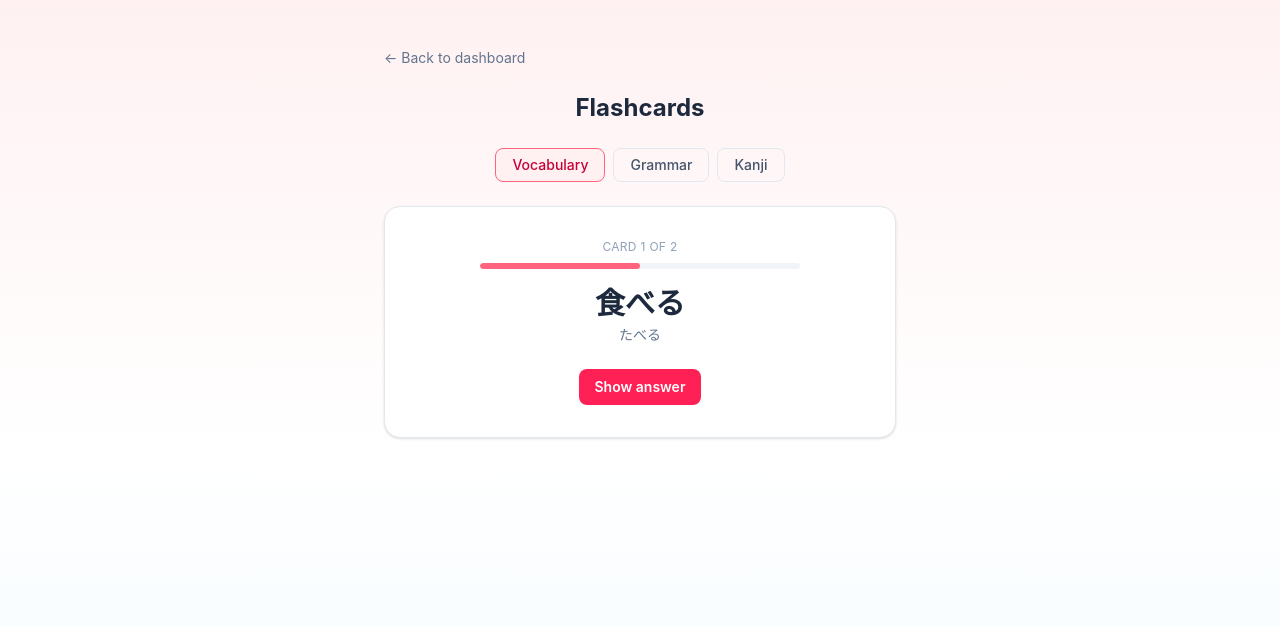
Test: FlashcardsPage › switches to the kanji deck and reveals readings/meaning
This screenshot has width=1280, height=626.
Expected: the text "食べる" is shown, [595,285,685,321]
Click the button "kanji" at (751, 165), box [718,148,785,182]
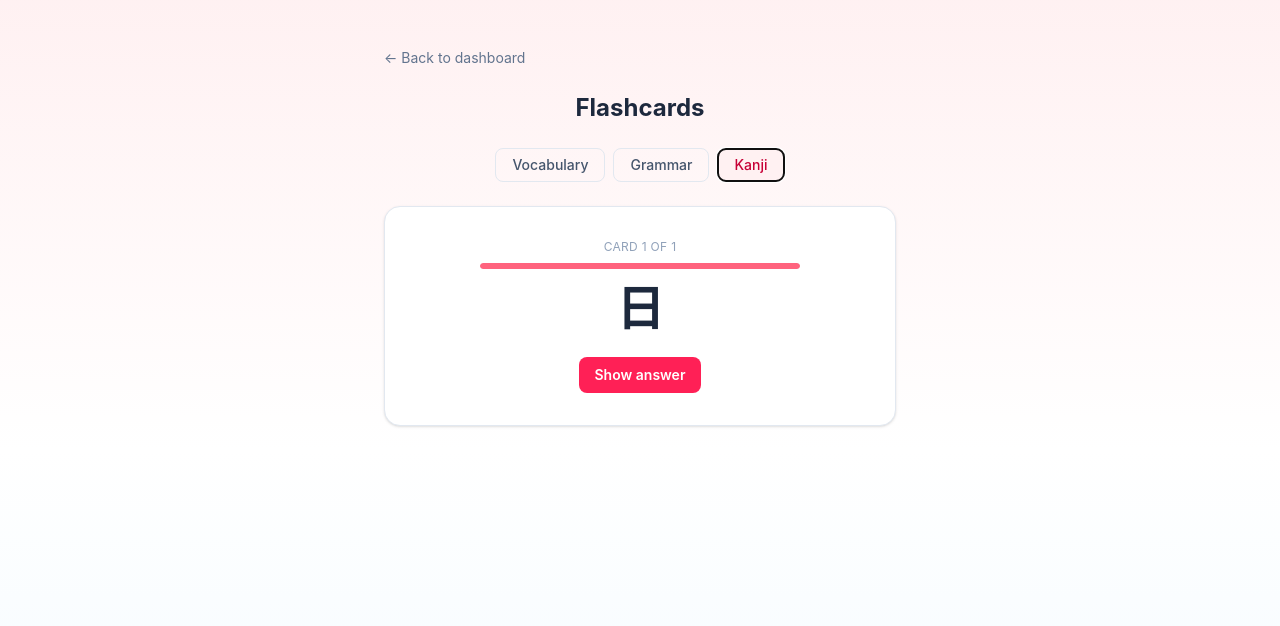
Now the text "日" is shown, box [616,279,664,338]
Click the button "Show answer" at (640, 375), box [578,357,702,393]
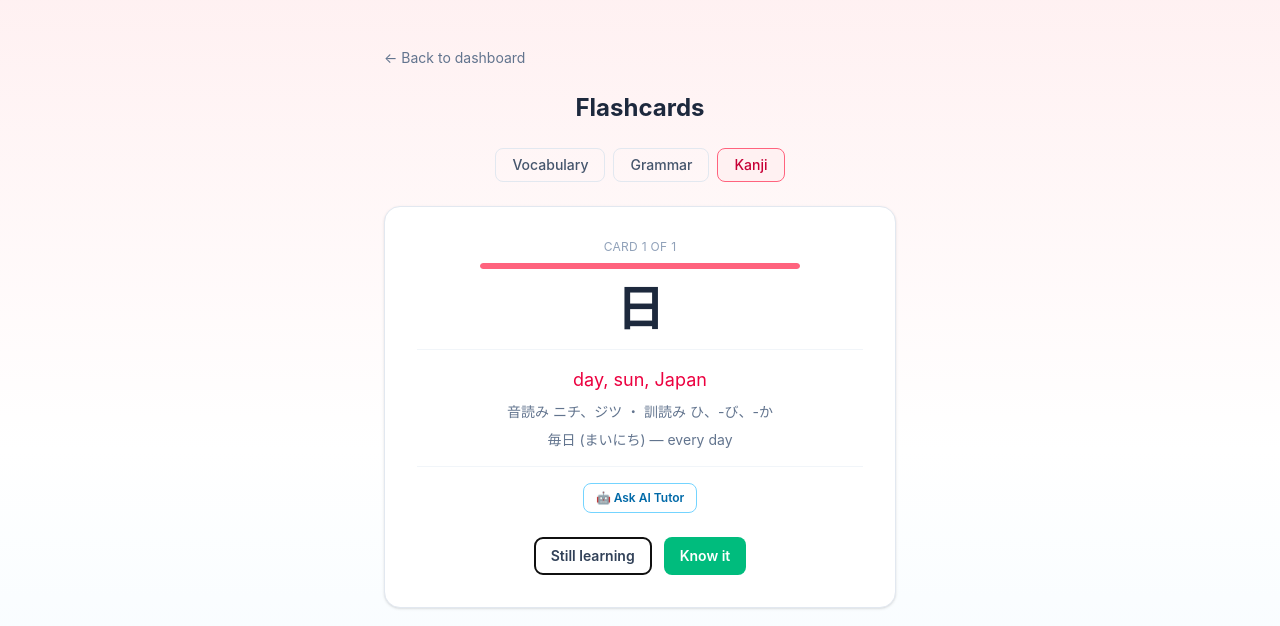
Now the text "day, sun, Japan" is shown, box [573,369,707,390]
Now the text "音読み ニチ、ジツ ・ 訓読み ひ、-び、-か" is shown, box [507,403,773,420]
Now the text "毎日 (まいにち) — every day" is shown, box [548,431,733,448]
